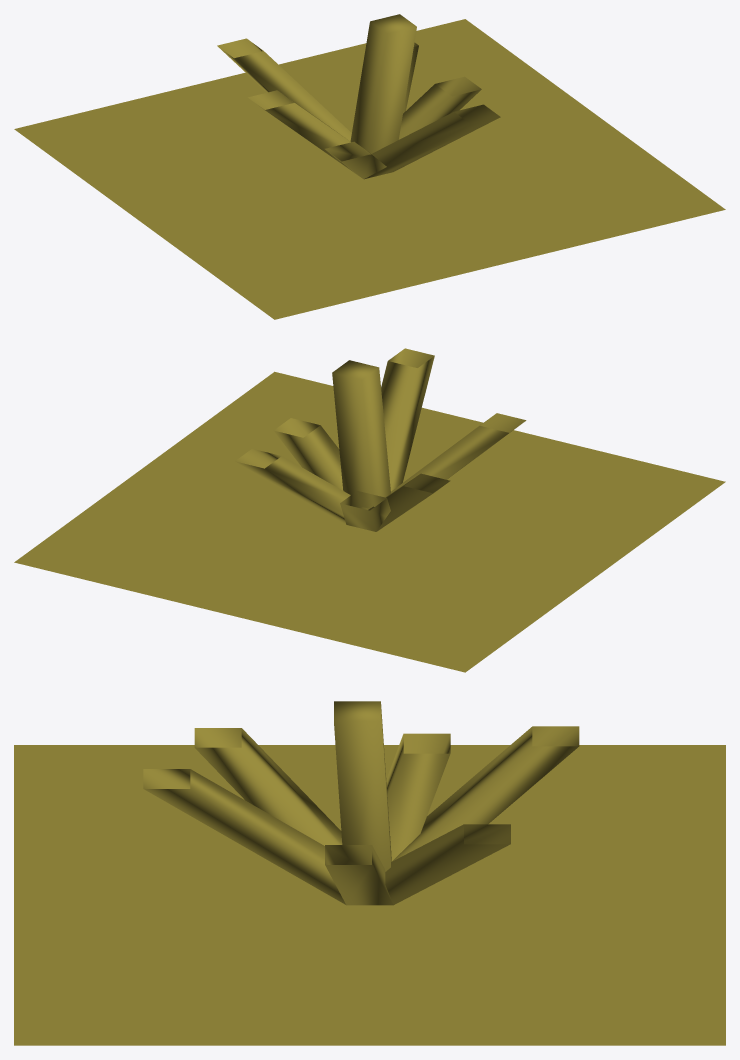
Rendered from shrub.obj.
3 views of the same model, one above another, from view 1: azimuth 30°, elevation 25°; view 2: azimuth 150°, elevation 25°; view 3: azimuth 270°, elevation 25° (orthographic). The views are drawn at different scales.
Parts seen in each view (by area): view 1: Cube.001; view 2: Cube.001; view 3: Cube.001.
Part boxes in pixels (x1,y1,x2,y2): Cube.001: (14, 14, 725, 319); Cube.001: (14, 348, 725, 672); Cube.001: (14, 701, 725, 1045).
Bounding box in the file's own units: 2 × 0.6102 × 2.
